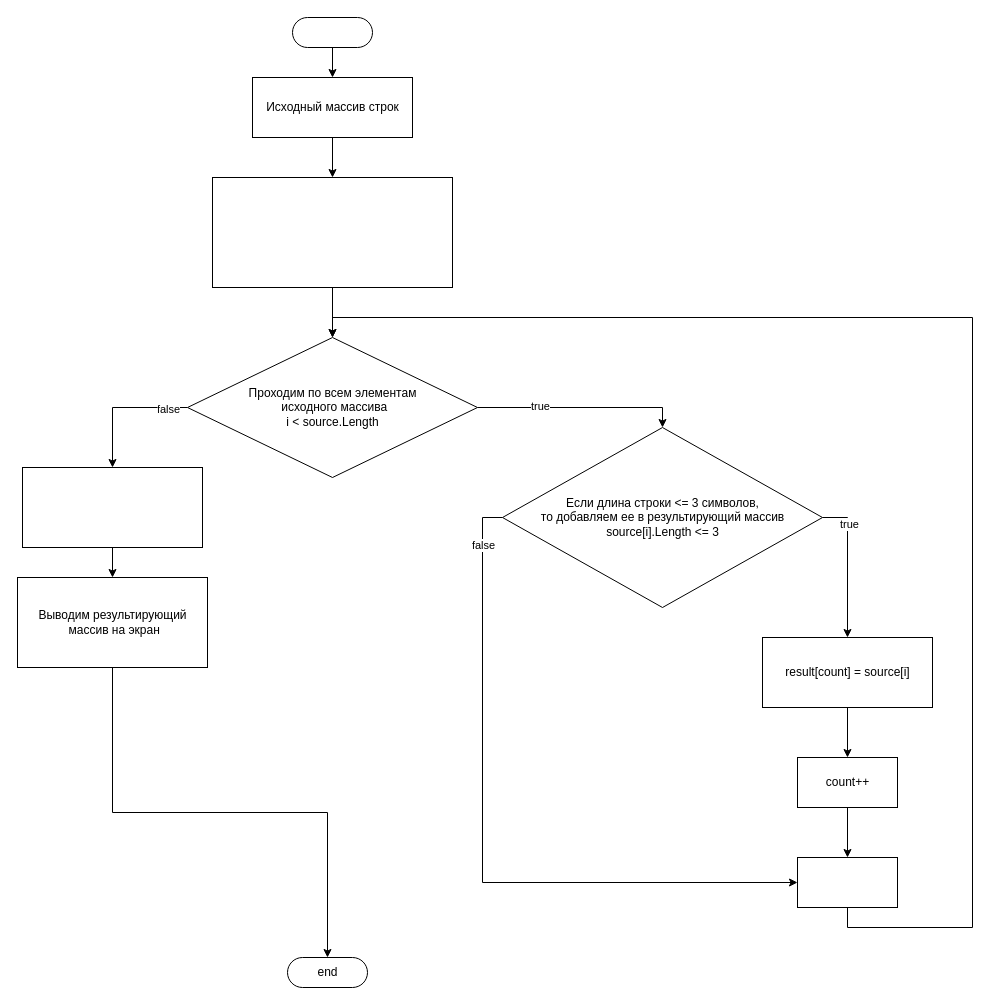
Image size: 998x1005. Some labels were removed from this diagram. The shapes that lost their labels are listed below. From the top down, each one's centre as x and y in pixels, then its label:
(x=332, y=32): main
(x=332, y=232): Создаем массив для хранения строк длиной <= 3 символов
(x=112, y=507): Обрезаем массив до фактического размера
(x=847, y=882): i++
